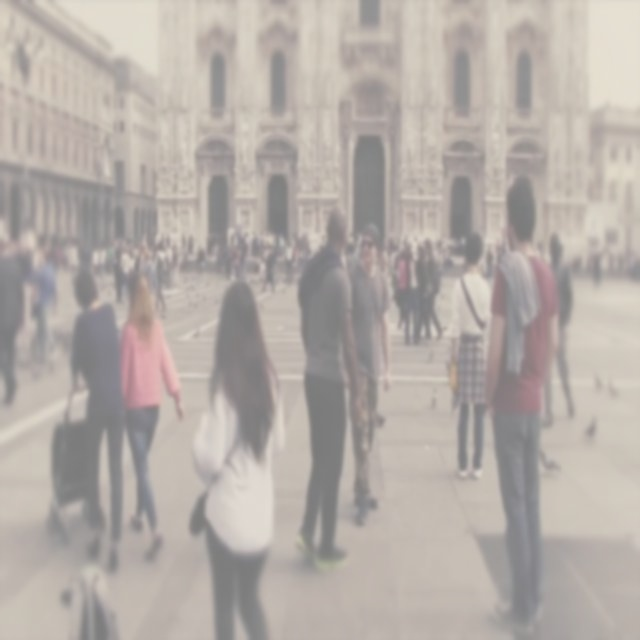pessoa: (480, 174, 560, 638), (190, 277, 286, 639), (292, 202, 362, 576), (120, 268, 184, 560), (68, 266, 126, 574), (344, 222, 390, 526), (0, 218, 71, 406), (449, 230, 492, 480), (545, 230, 575, 428), (179, 228, 261, 278), (568, 236, 640, 286), (421, 236, 443, 340), (414, 243, 432, 344), (403, 241, 420, 345), (70, 239, 100, 283), (292, 229, 326, 265), (154, 240, 168, 318), (434, 232, 468, 262), (140, 250, 158, 298), (397, 250, 407, 330), (111, 238, 123, 302), (260, 228, 284, 257), (261, 244, 275, 292), (120, 243, 131, 303), (344, 230, 362, 264), (380, 240, 390, 292), (164, 241, 174, 290), (389, 244, 398, 298), (98, 238, 107, 291), (382, 232, 418, 244), (172, 241, 180, 291), (284, 240, 292, 283), (139, 243, 149, 273), (500, 232, 508, 268), (534, 239, 546, 263), (485, 243, 492, 279), (130, 246, 140, 270), (495, 236, 502, 270), (140, 232, 154, 249), (159, 230, 171, 248), (107, 242, 113, 276), (151, 245, 156, 262), (120, 234, 128, 244)
